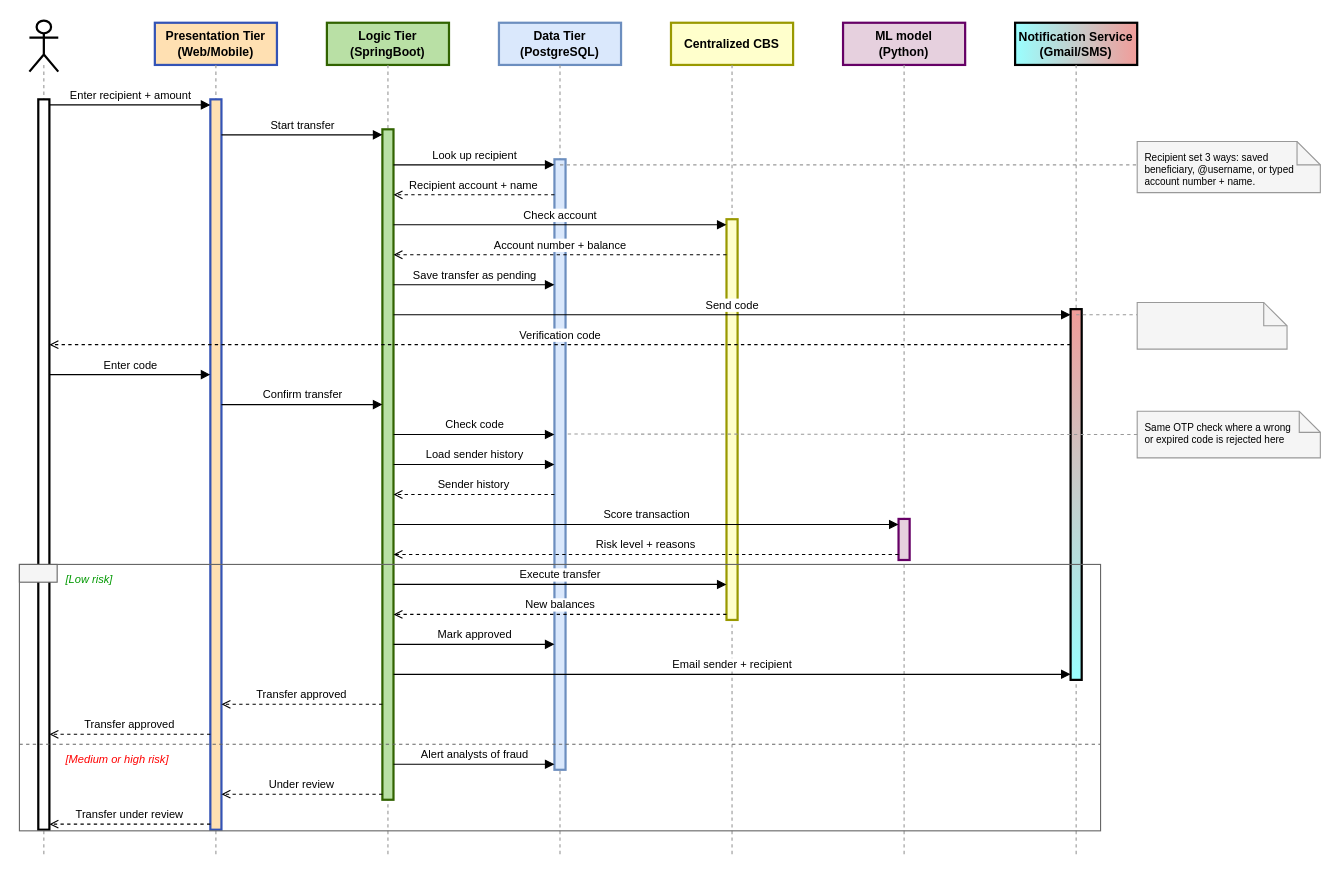
The diagram is 1340 pixels wide and 875 high, and some of its shapes have lost their labels. The shapes that lost their labels are listed below. From the top down, each one's centre as x and y in pixels, then its label:
the point at 43,45: Client
the point at 1211,325: Code: 6 digits, expires in 5 min, 3 tries.
the point at 37,572: alt
